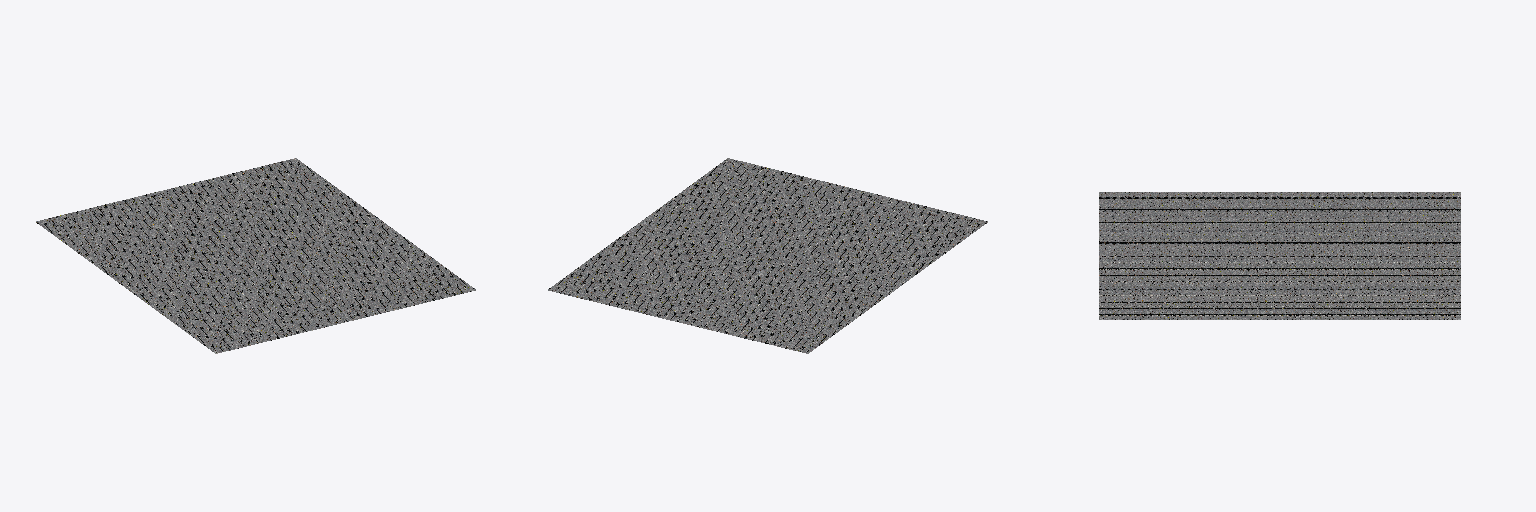
The picture shows the model from 3 angles: view 1: azimuth 30°, elevation 25°; view 2: azimuth 150°, elevation 25°; view 3: azimuth 270°, elevation 25°; orthographic projection.
Visible parts, largest first — view 1: Plane001; view 2: Plane001; view 3: Plane001.
Part boxes in pixels (x1,y1,x2,y2): Plane001: (36, 158, 475, 353); Plane001: (548, 158, 987, 353); Plane001: (1099, 192, 1460, 319).
Size of the model in its own units: 100 by 0 by 120.
Materials: 1 (1 with a texture image).